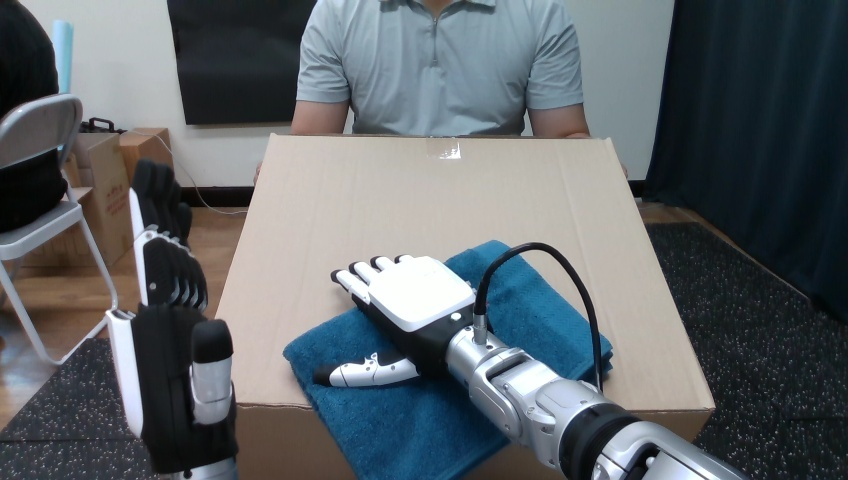left robot arm: (316, 242, 745, 479), (485, 249, 598, 386)
left robot hand: (315, 242, 745, 479), (485, 249, 597, 385)
right robot arm: (316, 242, 745, 479), (485, 249, 597, 385)
right robot hand: (315, 242, 745, 479), (485, 249, 597, 385)
